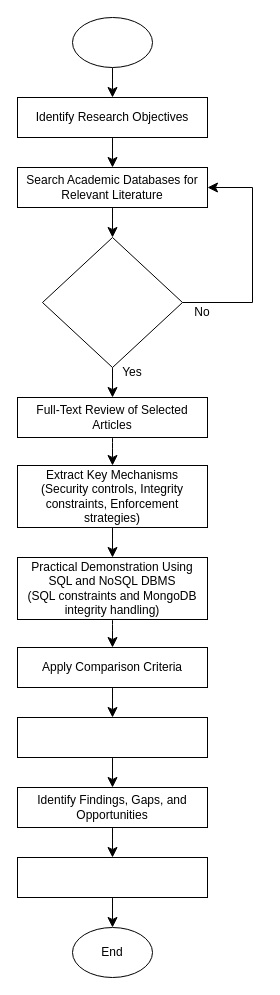
This 280x995 diagram has some shape labels left out. Here are the shapes that lost their labels. From the top down, the box of each, then its label:
(72, 16, 152, 68): Start
(42, 236, 182, 368): Is the Paper Relevant to Database Security & Integrity?
(16, 716, 208, 758): Comparative Analysis Across Studies
(16, 856, 208, 898): Cross-Study Validation with Existing Literature
